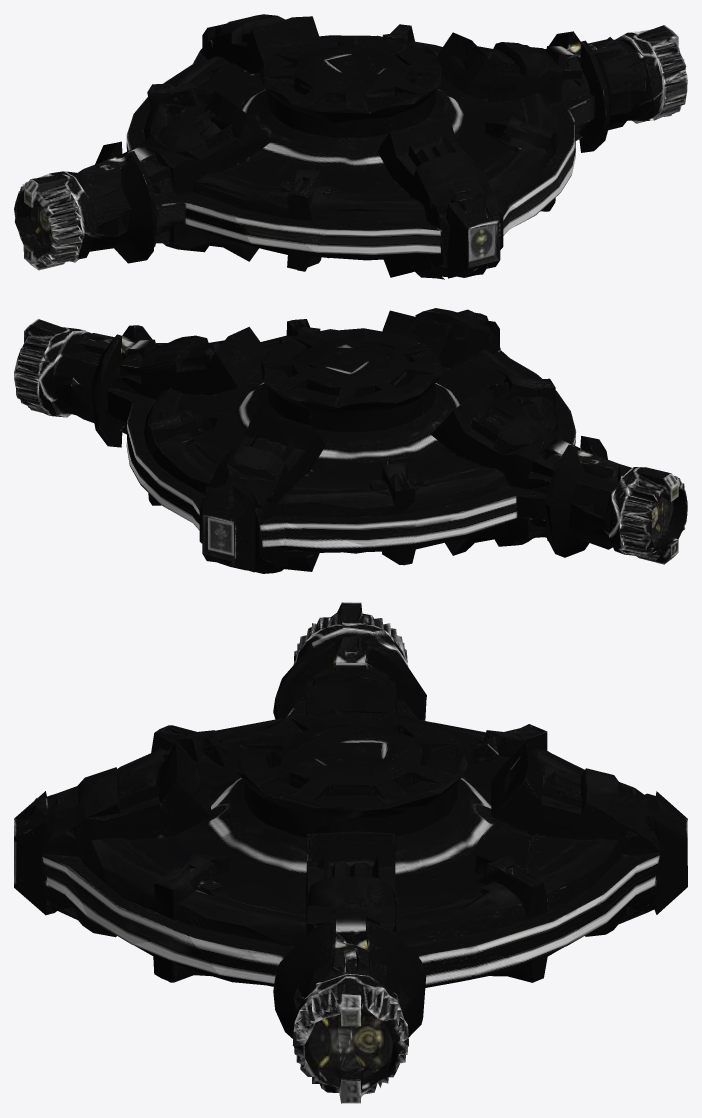
File: nation-q-fortress.glb
3 renders of one model, top to bottom at view 1: azimuth 30°, elevation 25°; view 2: azimuth 150°, elevation 25°; view 3: azimuth 270°, elevation 25°, orthographic. The views are drawn at different scales.
Bounding box in the file's own units: 1.9 × 0.4644 × 1.35.
1 material, 1 textured.
